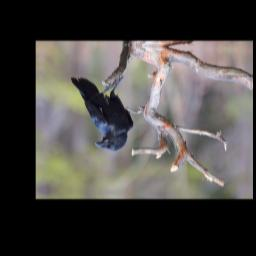Crow: (66, 74, 135, 153)
